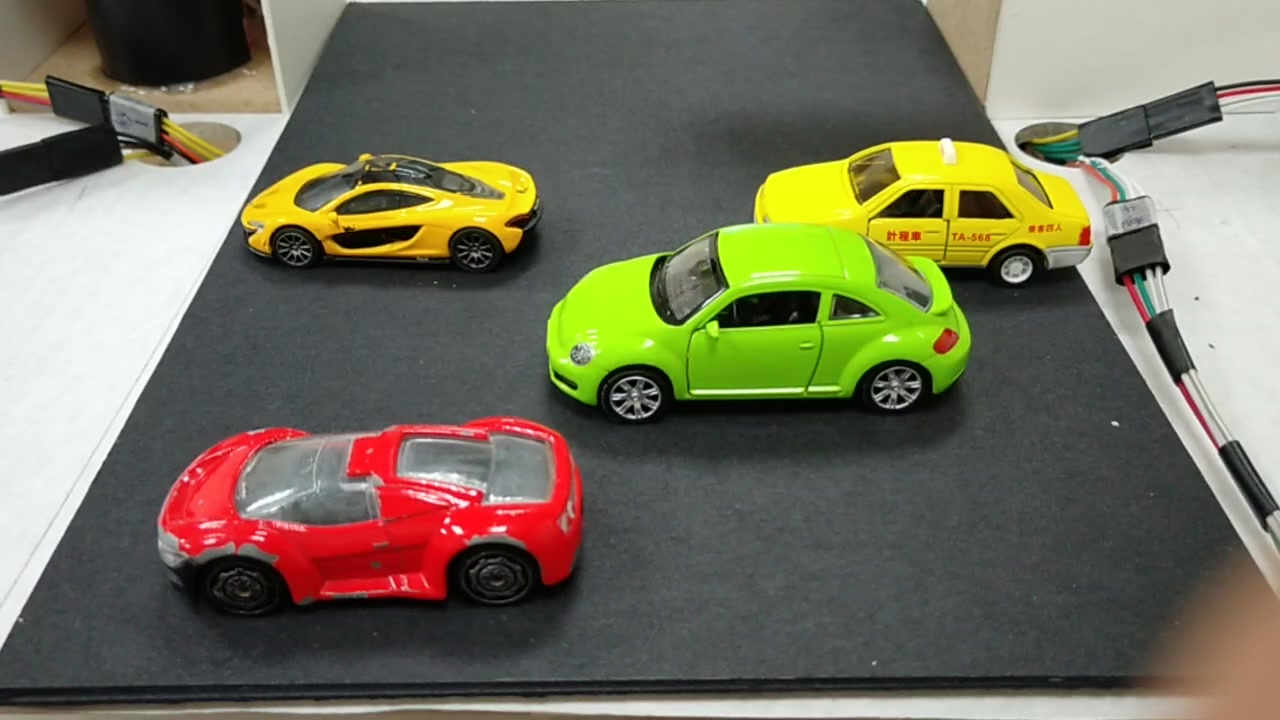car: (542, 231, 975, 422), (165, 414, 588, 605), (743, 141, 1087, 274), (240, 165, 535, 274)
